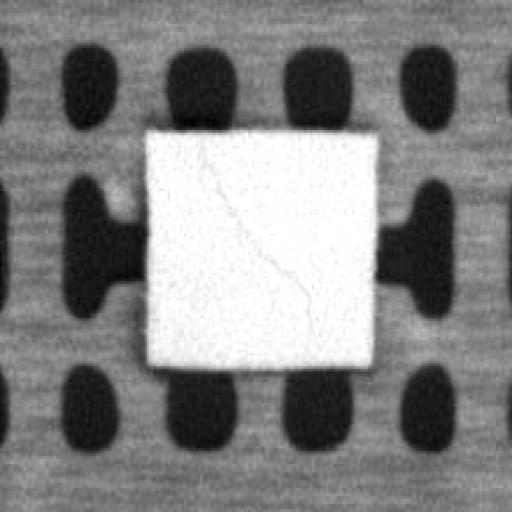DIE_CRACK: (200, 159, 314, 308)
